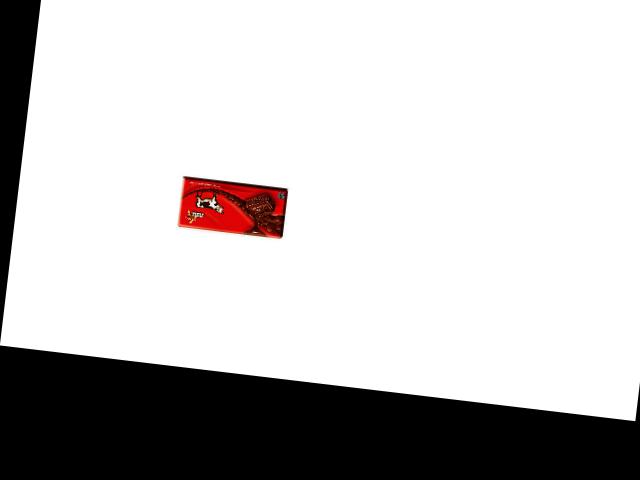chocolate: (185, 186, 290, 249)
